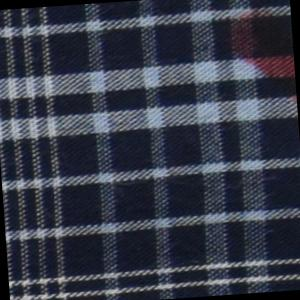Stain: (227, 5, 298, 109)
